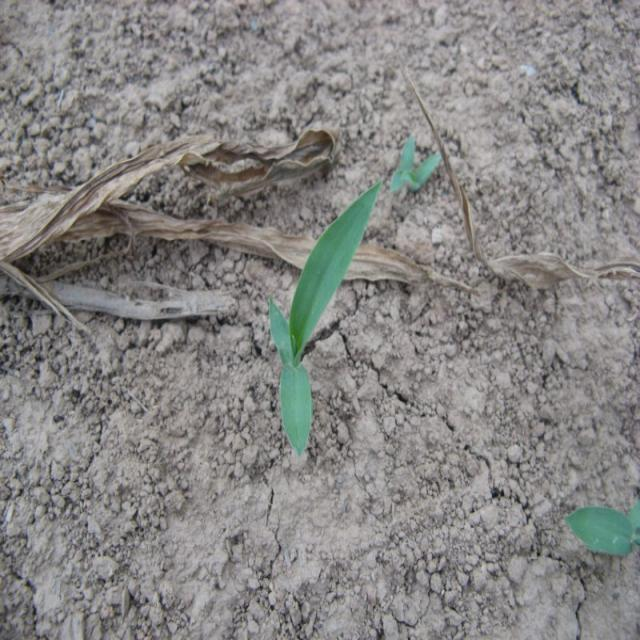bg: (263, 179, 385, 461)
